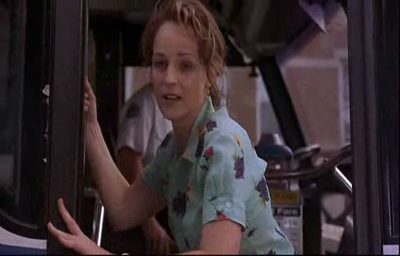face: (151, 34, 202, 120)
mcu: (1, 1, 400, 256)
person: (48, 1, 297, 255)
